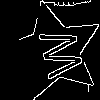W: (28, 26, 85, 82)
